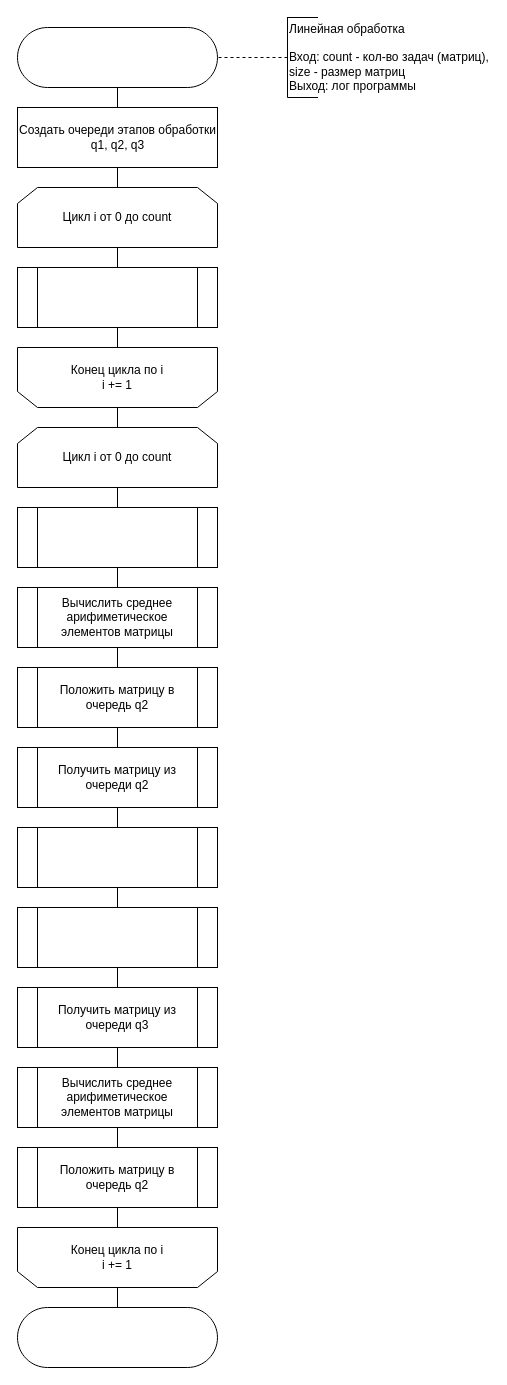
The diagram is 507 pixels wide and 1385 high, and some of its shapes have lost their labels. Each missing label, with the box of its shape:
Конец: (16, 1306, 218, 1368)
Найти максимальный элемент в матрице: (16, 826, 218, 888)
Начало: (16, 26, 218, 88)
Положить матрицу в очередь q3: (16, 906, 218, 968)
Получить матрицу из очереди q1: (16, 506, 218, 568)
Сгенерировать матрицу по size и добавить её в очредь q1: (16, 266, 218, 328)
